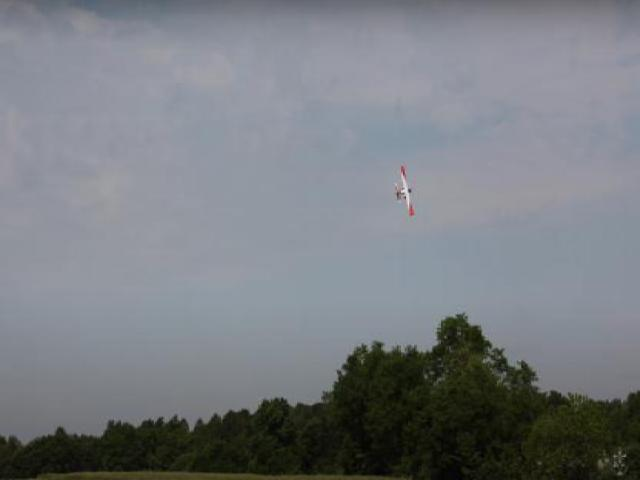uav: (393, 162, 416, 214)
